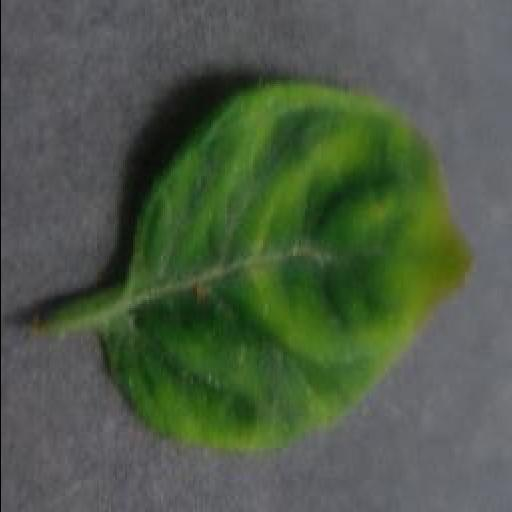disease_tomato: (108, 80, 474, 450)
